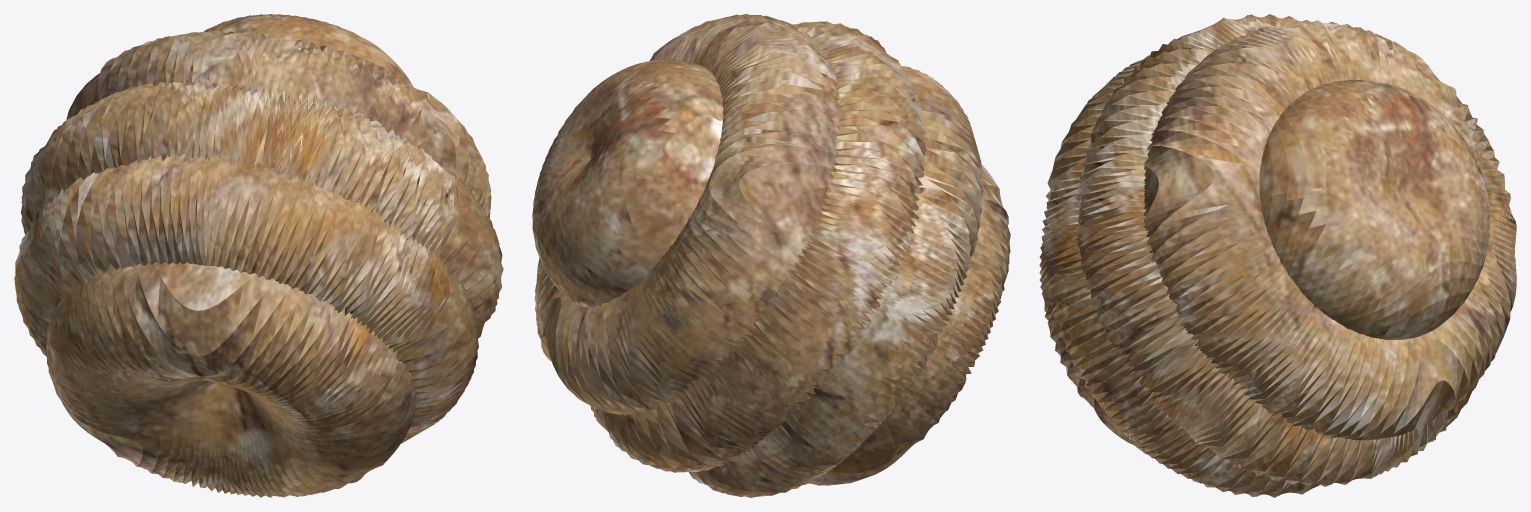
The model's file is blmeteor.fbx.
The picture shows the model from 3 angles, left to right: view 1: azimuth 30°, elevation 25°; view 2: azimuth 150°, elevation 25°; view 3: azimuth 270°, elevation 25°; orthographic projection.
Parts seen in each view (by area): view 1: Cube; view 2: Cube; view 3: Cube.
Part boxes in pixels (x1,y1,x2,y2): Cube: (14, 14, 503, 497); Cube: (532, 14, 1010, 497); Cube: (1039, 14, 1516, 497).
Bounding box in the file's own units: 872 × 872 × 872.
